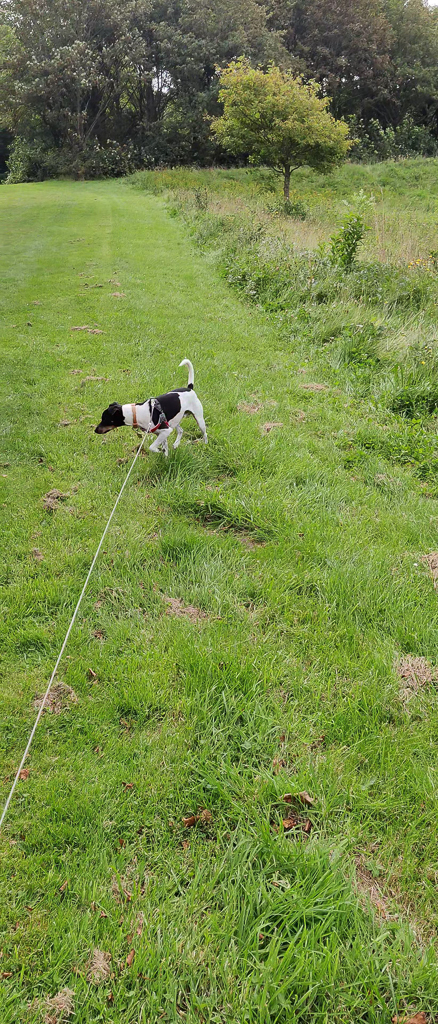Dog: (89, 345, 218, 463)
